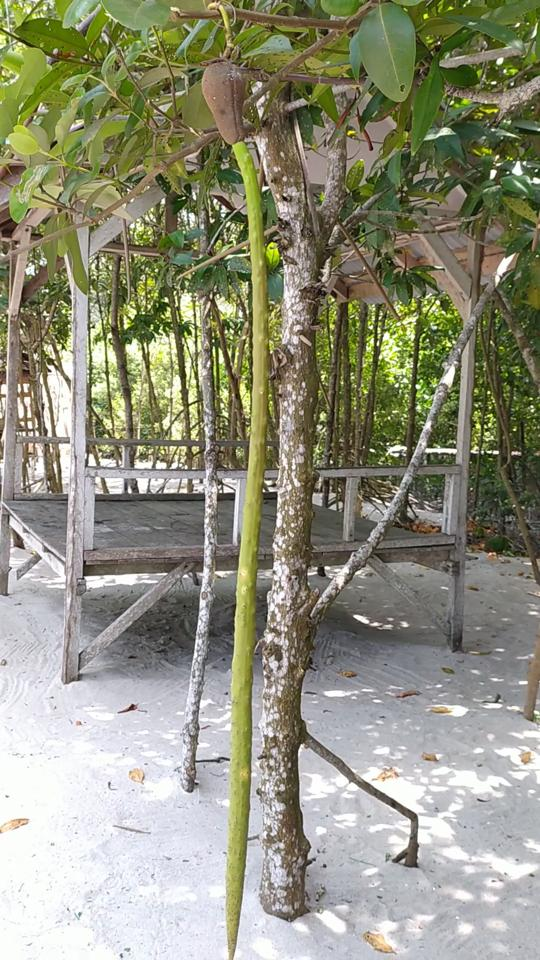mentah: (174, 44, 283, 955)
